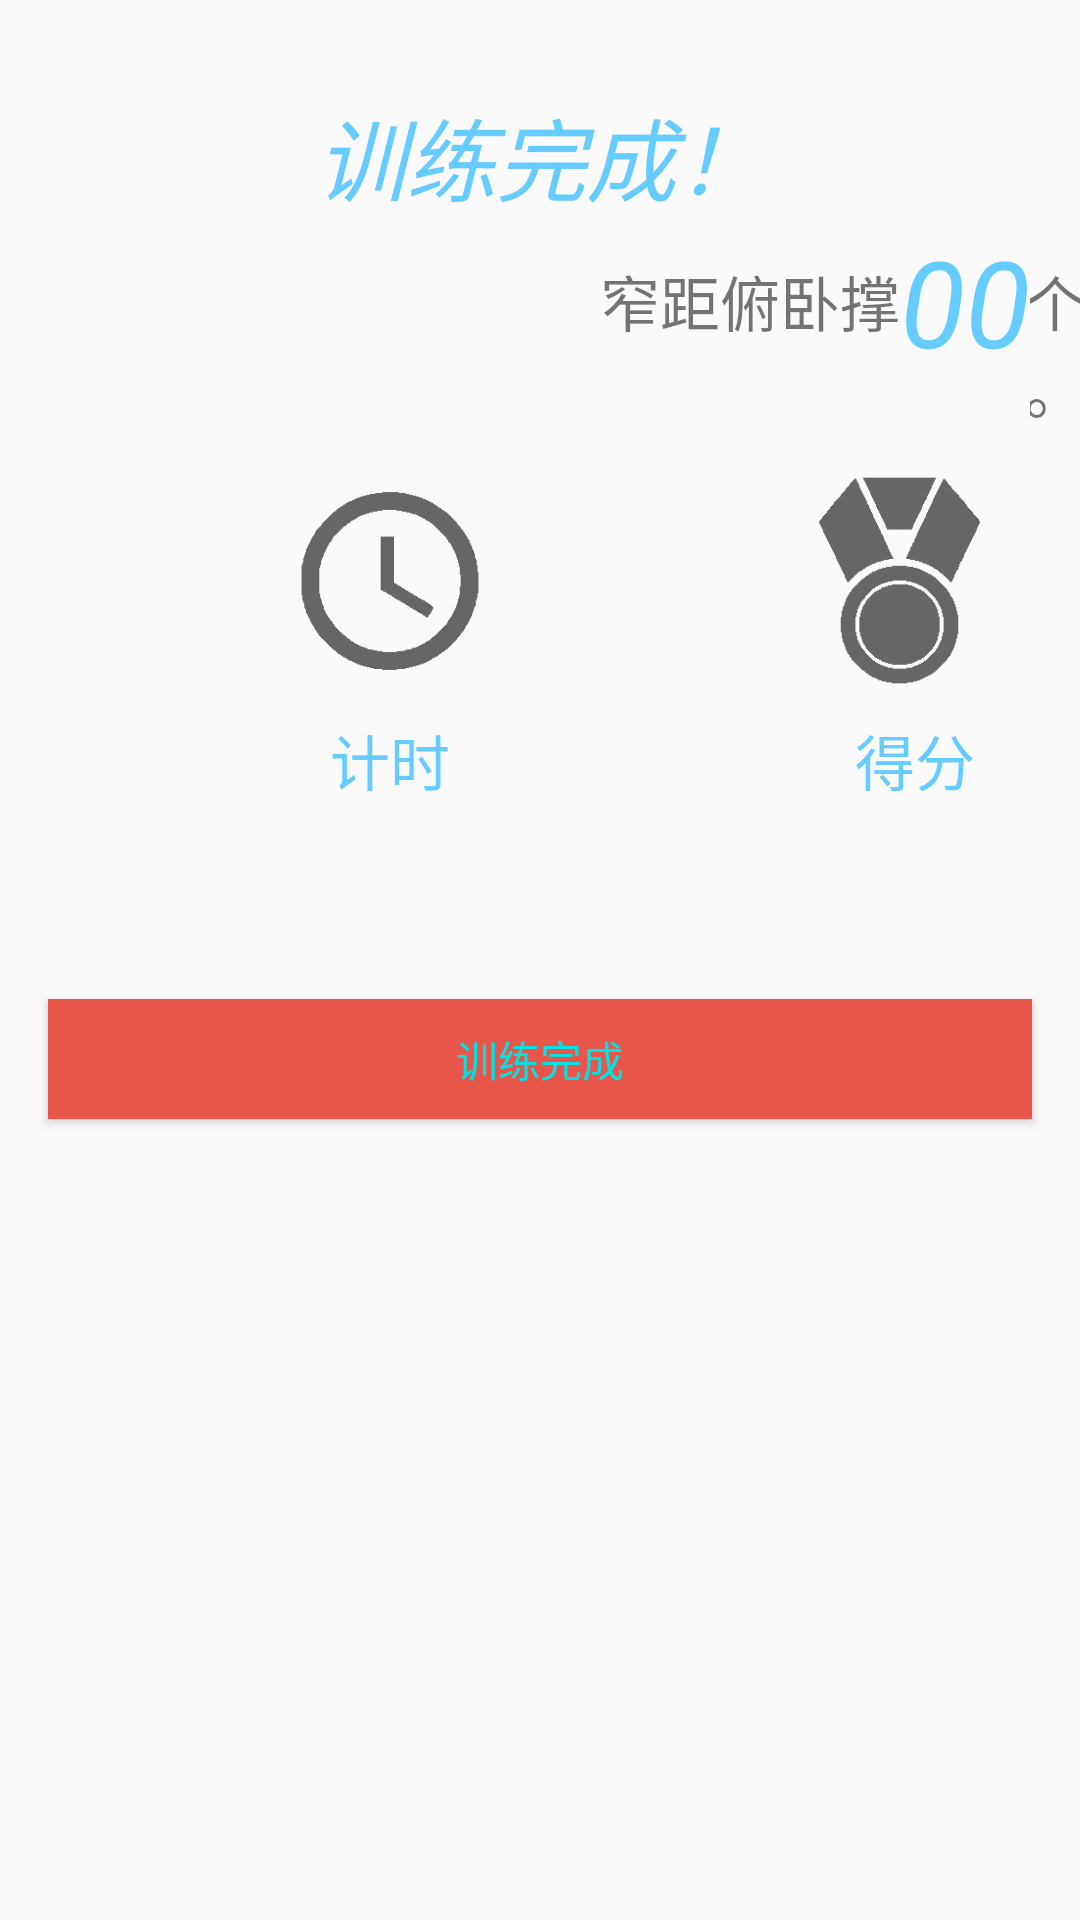

Icons on this 1080px x 1920px Android screen, each with the point to tap as point (x, y):
timer: point (390, 581)
